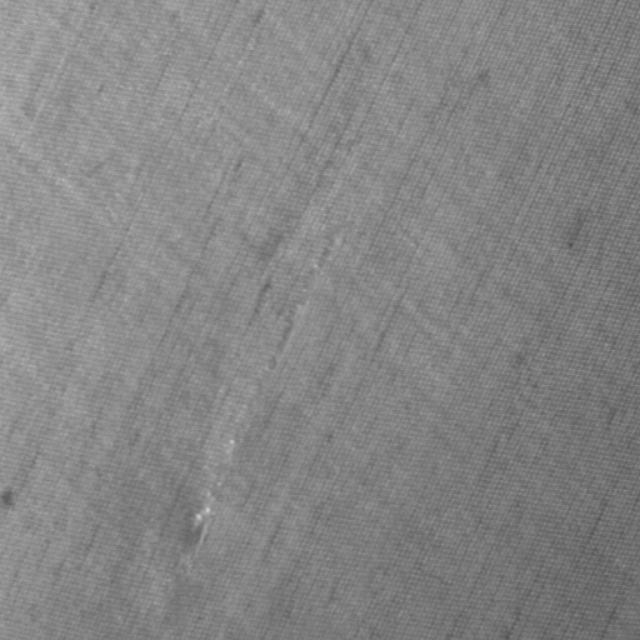thread error: (173, 370, 269, 564)
